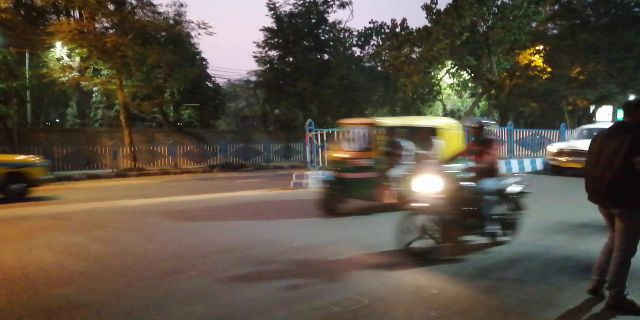Autorickshaw: (311, 116, 395, 217)
Motorbike: (403, 118, 528, 254)
